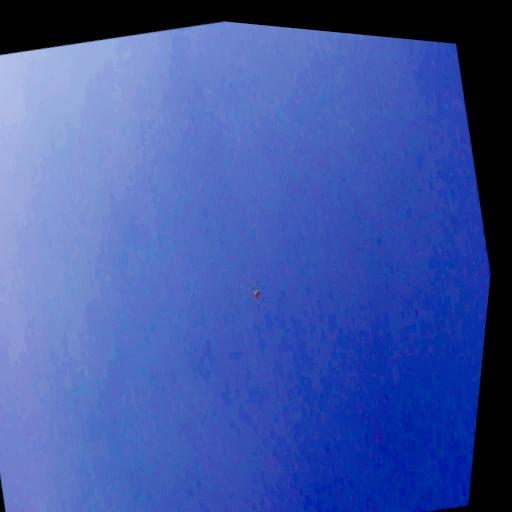drones: (244, 277, 269, 312)
